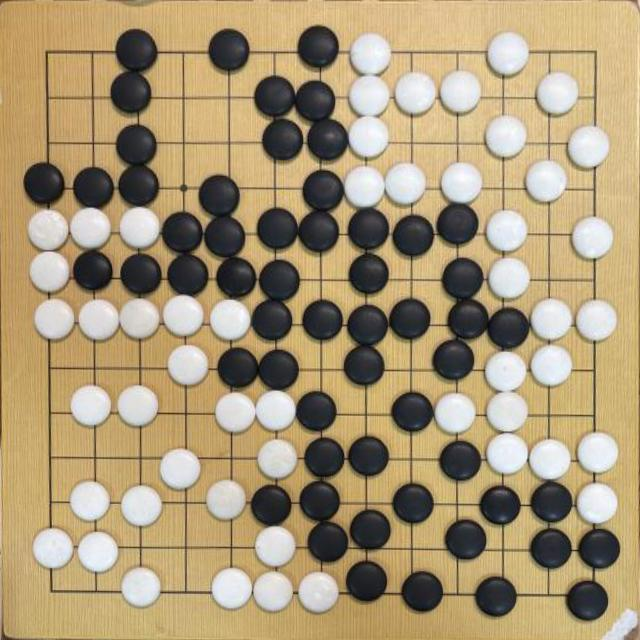blackstone: (115, 28, 158, 72), (120, 253, 163, 296), (298, 25, 340, 69), (566, 580, 610, 622), (24, 162, 66, 205), (110, 72, 152, 115), (208, 28, 250, 71), (118, 164, 160, 207), (167, 254, 210, 296), (436, 204, 479, 246), (530, 482, 573, 524), (204, 215, 247, 257), (578, 528, 621, 570), (530, 528, 573, 570), (432, 339, 476, 380), (444, 519, 488, 560), (116, 124, 158, 166), (217, 347, 259, 389), (348, 208, 390, 250), (258, 208, 300, 250), (298, 210, 340, 252), (250, 484, 292, 526), (346, 562, 388, 604), (308, 520, 350, 562), (439, 440, 482, 481), (251, 300, 294, 341), (299, 481, 342, 522), (349, 510, 392, 551), (74, 168, 115, 210), (73, 250, 114, 292), (198, 174, 240, 215), (261, 119, 303, 160), (306, 119, 348, 160), (488, 307, 530, 348), (162, 212, 204, 253), (442, 258, 484, 299), (389, 298, 431, 339), (259, 260, 300, 302), (447, 299, 489, 340), (258, 350, 300, 391), (479, 486, 522, 526), (343, 346, 386, 386), (475, 577, 518, 617), (254, 76, 295, 117), (303, 170, 344, 211), (304, 438, 345, 479), (391, 393, 433, 433), (296, 392, 338, 432), (347, 306, 389, 346), (402, 572, 444, 612), (392, 484, 434, 524), (296, 80, 336, 121), (392, 216, 433, 256), (216, 258, 257, 298), (349, 254, 389, 294), (349, 436, 389, 476), (303, 301, 343, 340)
whitestone: (210, 567, 255, 611), (571, 216, 615, 260), (209, 299, 253, 342), (162, 295, 206, 338), (486, 432, 530, 475), (254, 525, 298, 568), (536, 72, 580, 115), (297, 571, 341, 614), (252, 570, 296, 613), (487, 31, 530, 75), (78, 298, 121, 341), (530, 344, 573, 387), (159, 448, 202, 491), (529, 438, 572, 481), (77, 530, 120, 573), (214, 392, 258, 434), (434, 392, 478, 434), (487, 257, 531, 299), (34, 298, 76, 342), (29, 250, 71, 294), (486, 391, 530, 433), (484, 350, 528, 392), (575, 298, 617, 342), (120, 485, 164, 527), (530, 298, 574, 340), (576, 432, 618, 476), (484, 115, 528, 157), (117, 386, 160, 428), (70, 385, 113, 427), (440, 162, 483, 204), (70, 207, 112, 250), (525, 160, 567, 203), (348, 75, 391, 117), (440, 70, 482, 113), (567, 125, 610, 167), (349, 32, 392, 74), (168, 345, 210, 387), (120, 298, 162, 340), (255, 390, 297, 432), (119, 207, 161, 249), (384, 162, 426, 204), (486, 209, 528, 251), (344, 166, 386, 208), (69, 480, 111, 522), (28, 209, 70, 251), (394, 72, 436, 114), (576, 482, 618, 524), (32, 527, 74, 569), (348, 116, 389, 159), (205, 480, 248, 521), (257, 438, 299, 479), (121, 567, 162, 609)
